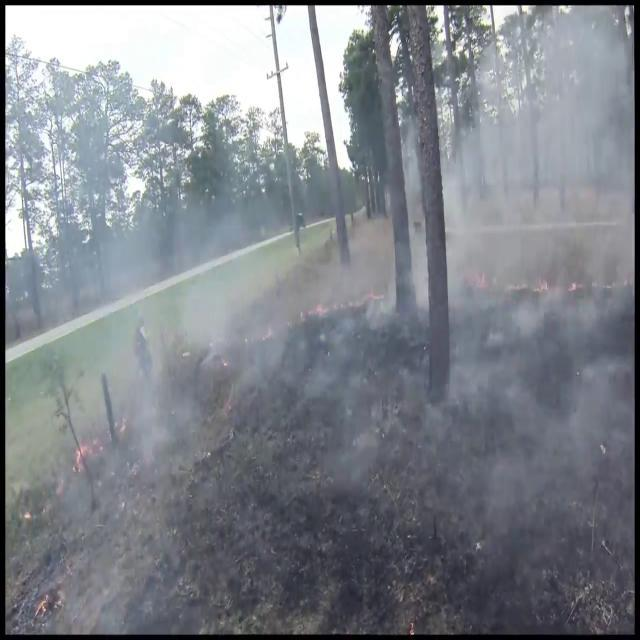Smoke: (48, 164, 380, 573), (422, 8, 636, 605)
